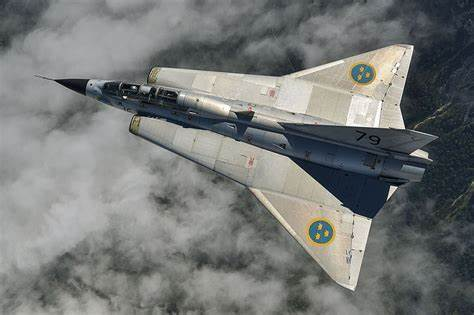Aeronef_militaire: (29, 38, 445, 293)
